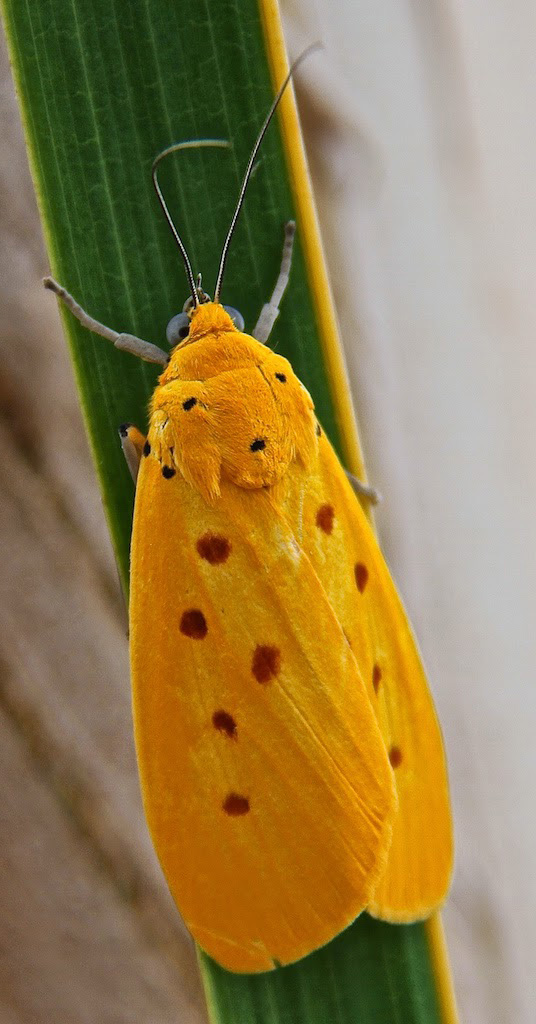Agape chloropyga: (40, 33, 462, 978)
moth: (38, 31, 460, 976)
